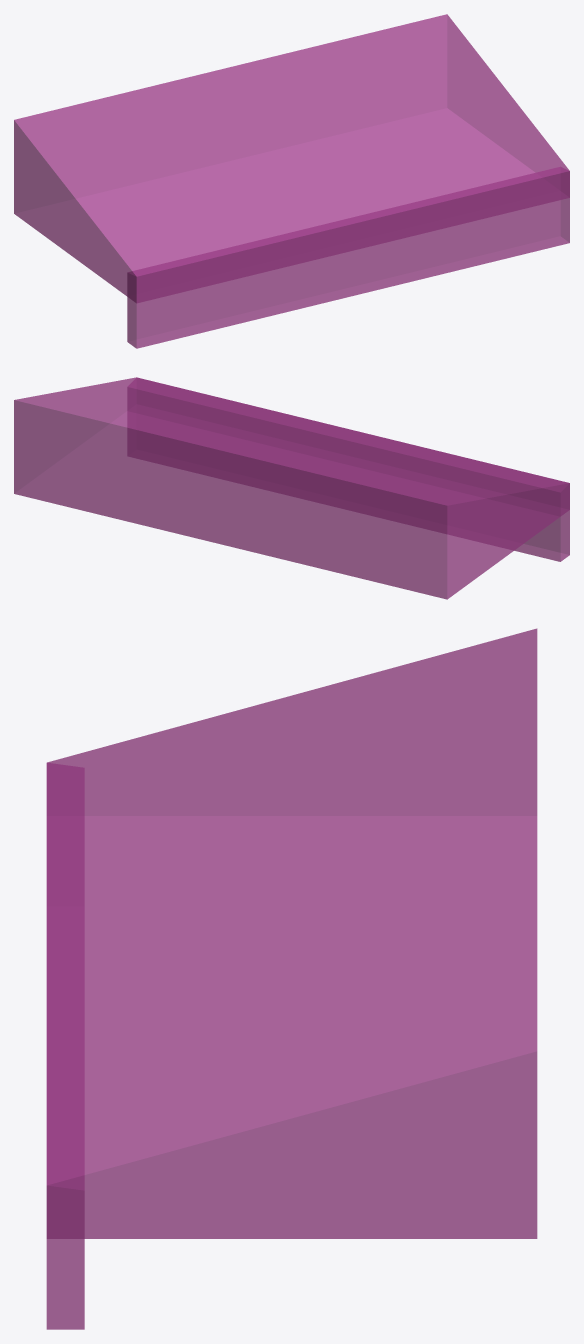
File: SM_Bld_Awning_01_Alt_01_Collision_01.fbx
3 renders of one model, top to bottom at view 1: azimuth 30°, elevation 25°; view 2: azimuth 150°, elevation 25°; view 3: azimuth 270°, elevation 25°, orthographic. The views are drawn at different scales.
Visible parts, largest first — view 1: SM_Bld_Awning_01_Alt_01_Collision_01; view 2: SM_Bld_Awning_01_Alt_01_Collision_01; view 3: SM_Bld_Awning_01_Alt_01_Collision_01.
Part boxes in pixels (x1,y1,x2,y2): SM_Bld_Awning_01_Alt_01_Collision_01: (14,14,569,348); SM_Bld_Awning_01_Alt_01_Collision_01: (14,377,569,599); SM_Bld_Awning_01_Alt_01_Collision_01: (46,628,537,1329).
Size of the model in its own units: 240 by 73.52 by 117.
